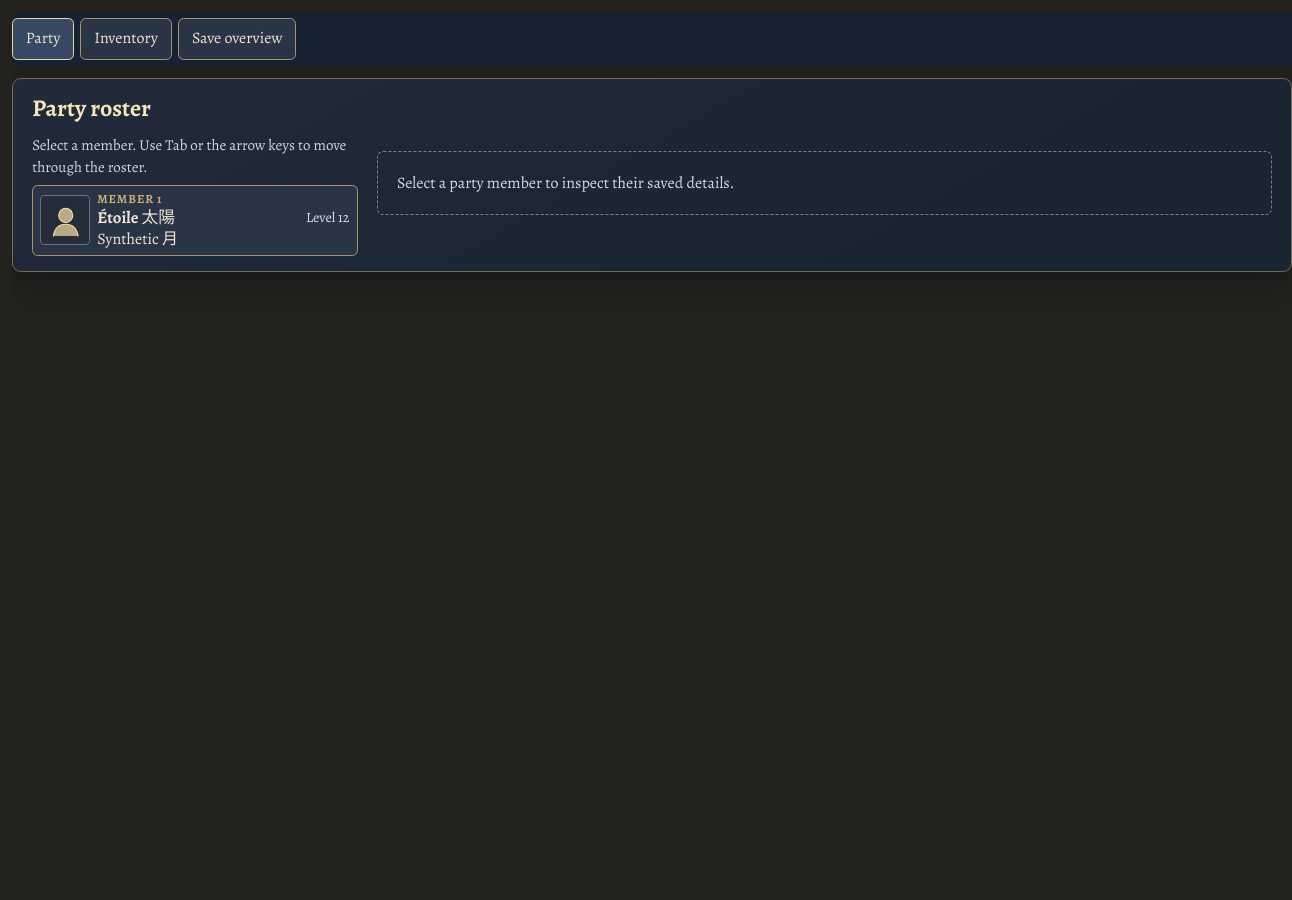
Scenario: selected unit detail tabs › shows game-displayed stats without raw saved bases
Click the button "Member 1 Étoile 太陽 Synthetic 月 Level 12".
click(65, 220)  # box 32,185 -> 358,256
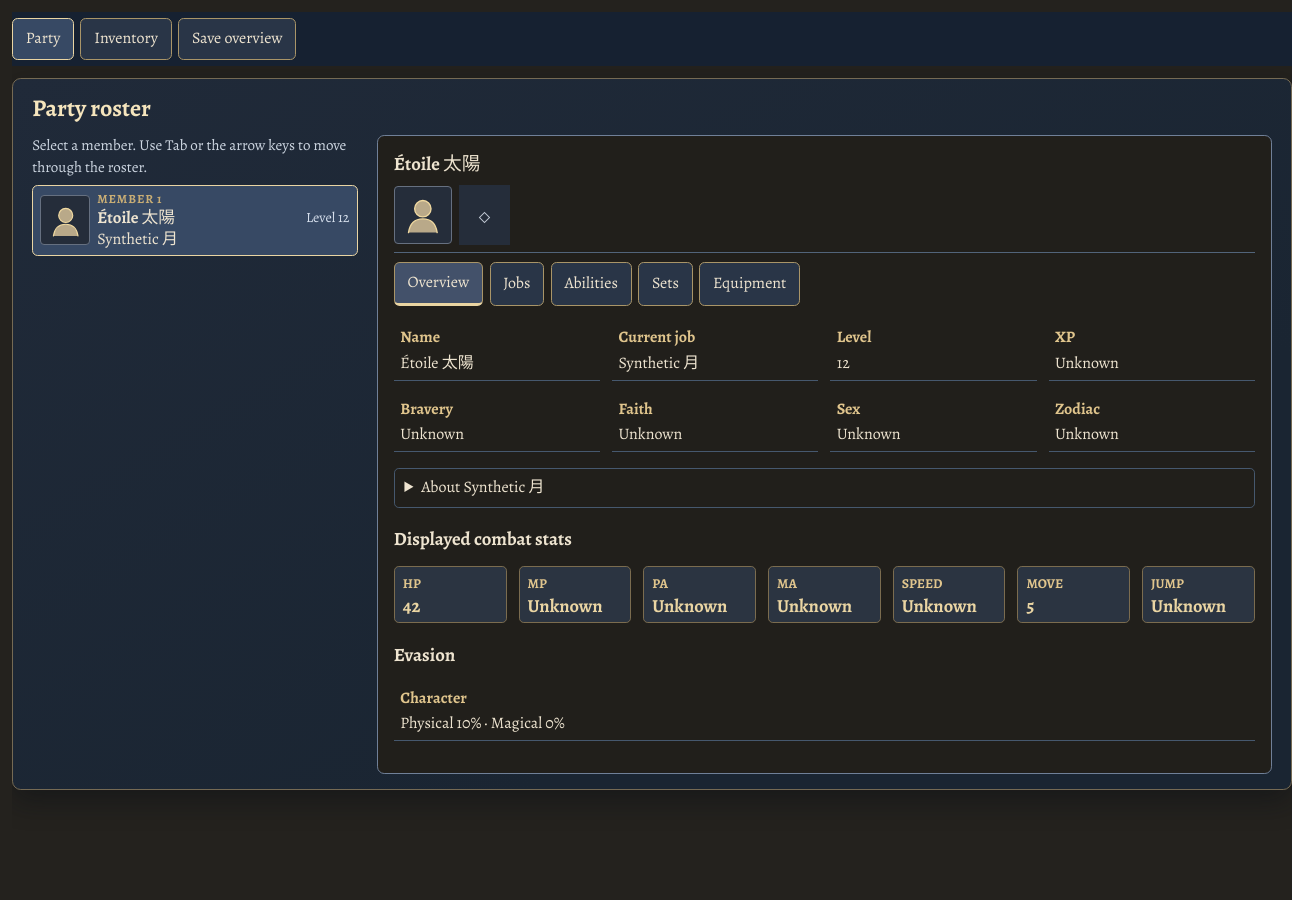
Check: the text "Physical 10% · Magical 0%" is shown, box 400,712 -> 565,734
